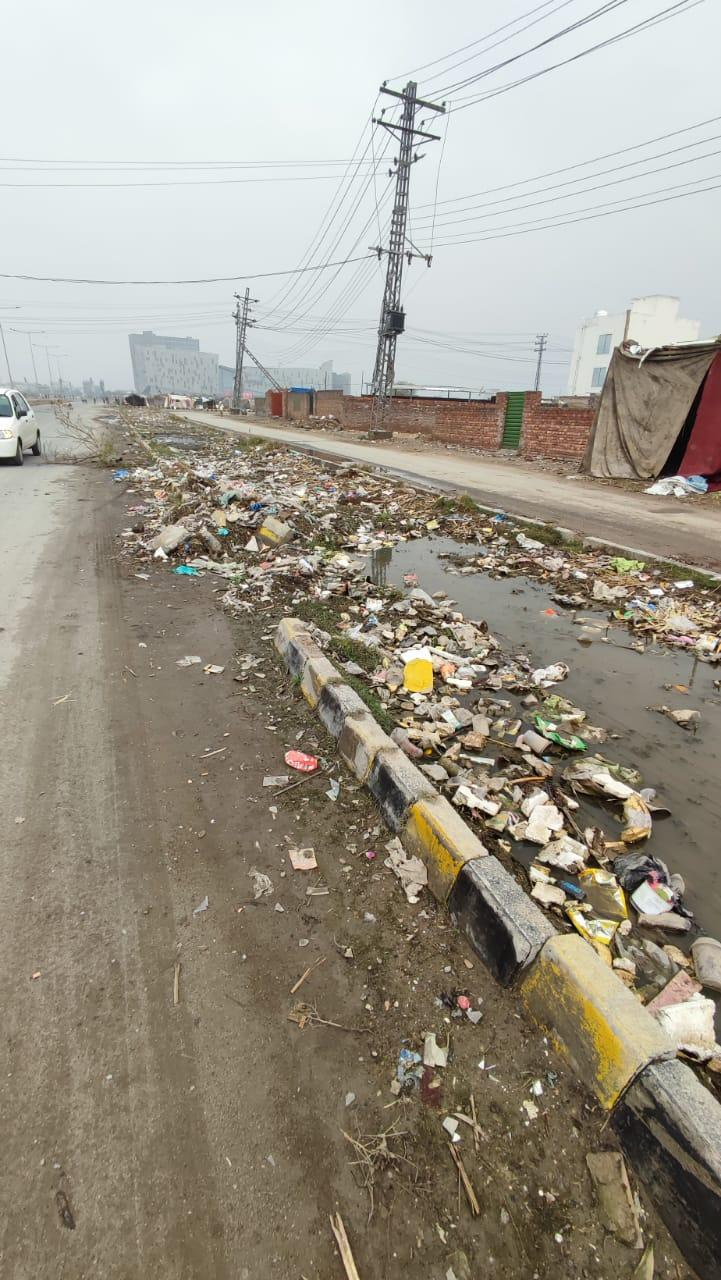garbage: (158, 448, 721, 1011)
